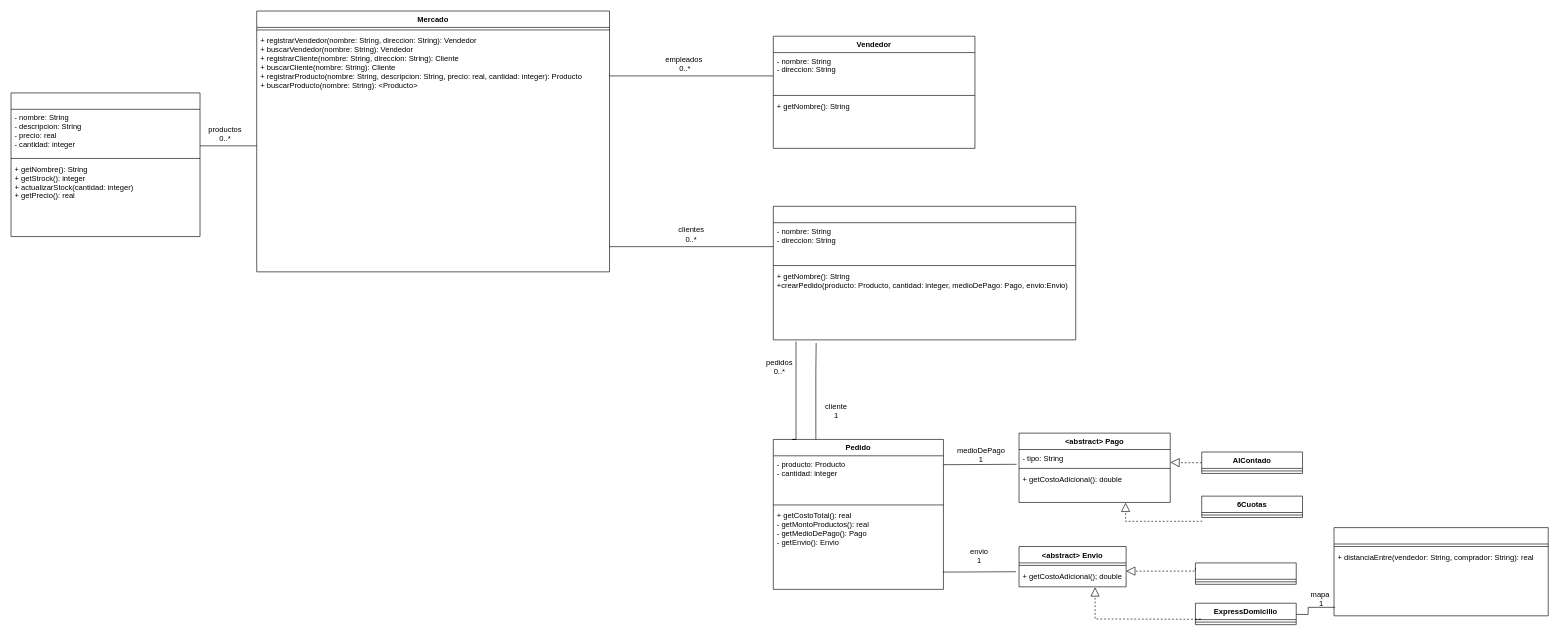
Some shapes in this 1559 by 639 pixel diagram are drawn without their labels. The shapes that lost their labels are listed below. From the top down, each one's box as (x1, y1, x2, y2) in pixels, then its label:
(10, 92, 200, 237): Producto
(773, 206, 1076, 340): Cliente
(1195, 562, 1296, 584): RetiroSucursal
(1333, 527, 1548, 616): Mapa
